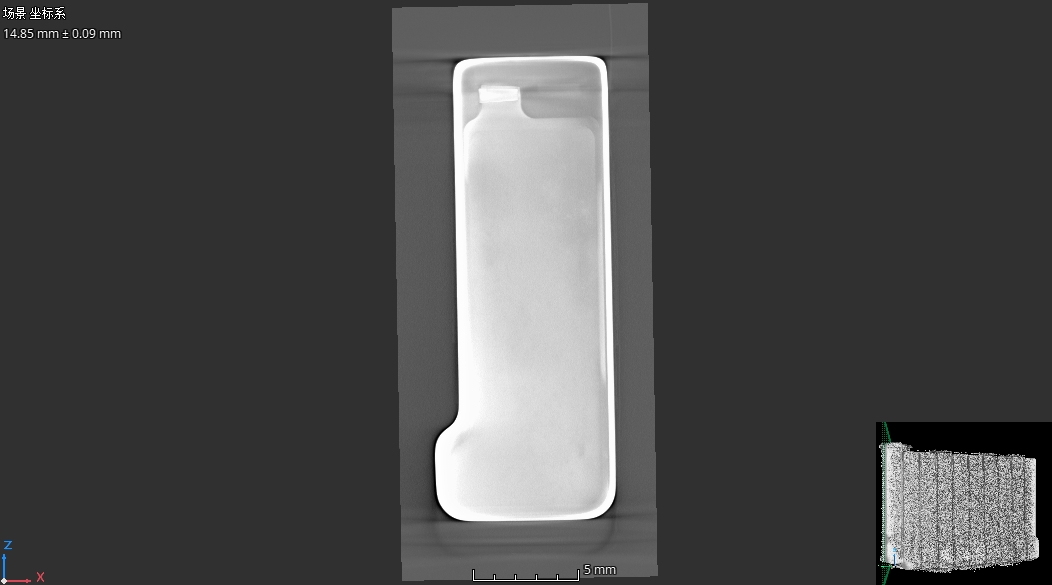dark: (574, 441, 587, 461)
